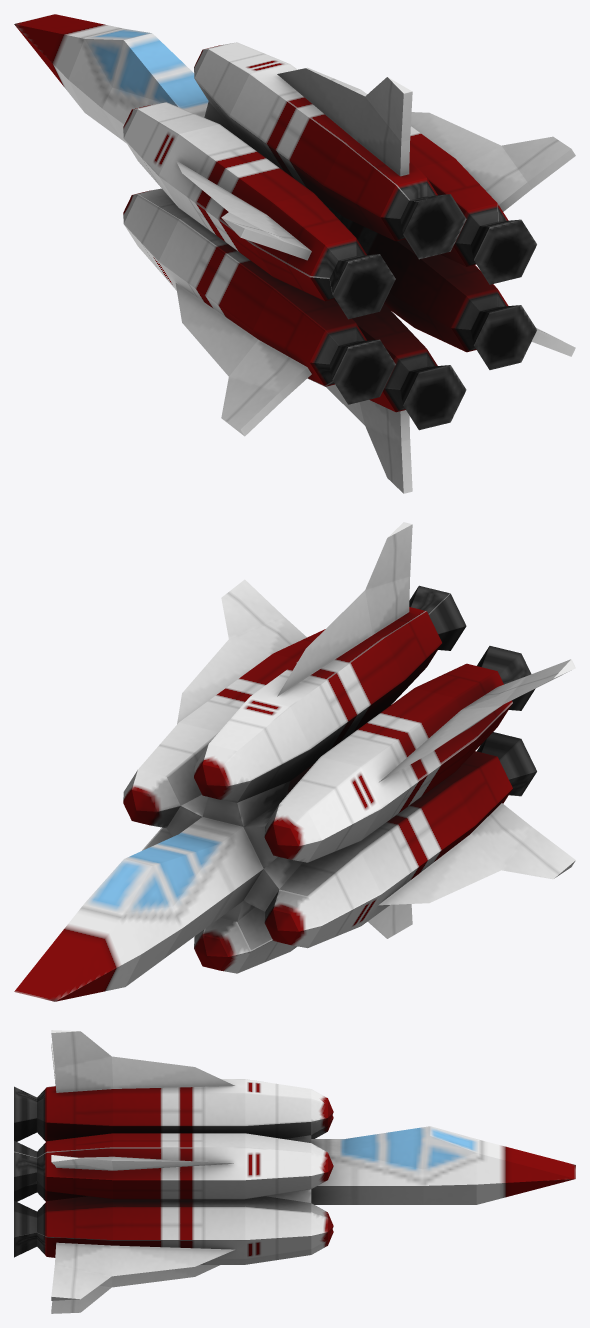
Rendered from spaceship.glb.
3 renders of one model, top to bottom at view 1: azimuth 30°, elevation 25°; view 2: azimuth 150°, elevation 25°; view 3: azimuth 270°, elevation 25°, orthographic. The views are drawn at different scales.
Visible parts, largest first — view 1: Nauyaca; view 2: Nauyaca; view 3: Nauyaca.
Boxes of the visible parts, box(x1,y1,x2,y2) form: Nauyaca: box(14, 14, 575, 493); Nauyaca: box(14, 522, 575, 1001); Nauyaca: box(14, 1030, 575, 1313).
Bounding box in the file's own units: 8.22 × 9.39 × 16.99.
Materials: 1 (1 with a texture image).
